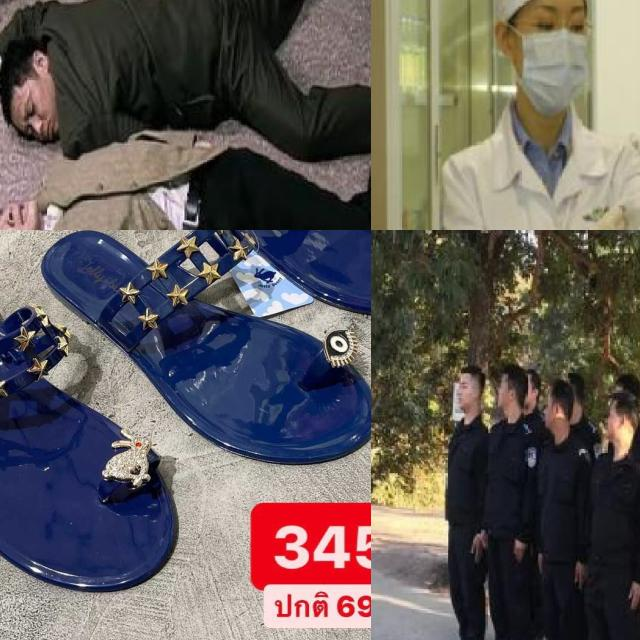Sandals: (44, 230, 371, 487), (0, 245, 182, 600), (127, 230, 371, 322)
face_mask: (494, 0, 599, 117)
face_nomask: (12, 82, 69, 148), (0, 189, 44, 230), (450, 375, 478, 411)
glasses: (525, 6, 594, 44)
hand_glove: (575, 207, 629, 230)
hand_noglove: (625, 581, 640, 608), (573, 563, 587, 589), (512, 538, 526, 563), (470, 532, 482, 561), (534, 550, 546, 572), (479, 530, 487, 546)
head_nohelmet: (616, 372, 640, 401), (606, 391, 632, 415), (499, 362, 521, 388), (450, 366, 482, 383), (545, 383, 567, 406), (566, 372, 586, 389)
person: (0, 0, 371, 162), (425, 0, 640, 230), (0, 157, 371, 230), (430, 367, 491, 640), (539, 382, 594, 640), (591, 393, 640, 640), (491, 372, 534, 640)
